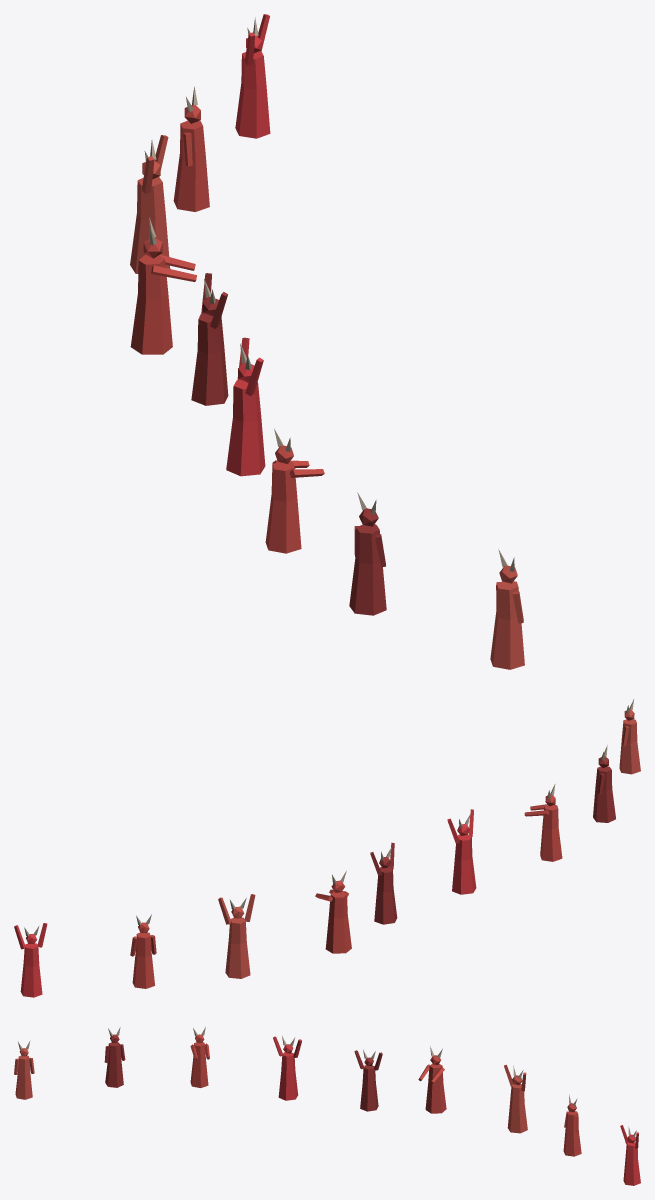
Rendered from Stands_5_0_1.obj.
3 renders of one model, top to bottom at view 1: azimuth 30°, elevation 25°; view 2: azimuth 150°, elevation 25°; view 3: azimuth 270°, elevation 25°, orthographic. The views are drawn at different scales.
Parts seen in each view (by area): view 1: Stands_5_0_1; view 2: Stands_5_0_1; view 3: Stands_5_0_1.
Part boxes in pixels (x1=…): Stands_5_0_1: x1=130, y1=14, x2=524, y2=669; Stands_5_0_1: x1=14, y1=699, x2=640, y2=997; Stands_5_0_1: x1=14, y1=1026, x2=640, y2=1185.
Size of the model in its own units: 13.71 by 3.72 by 33.81.
Materials: 1 (1 with a texture image).
